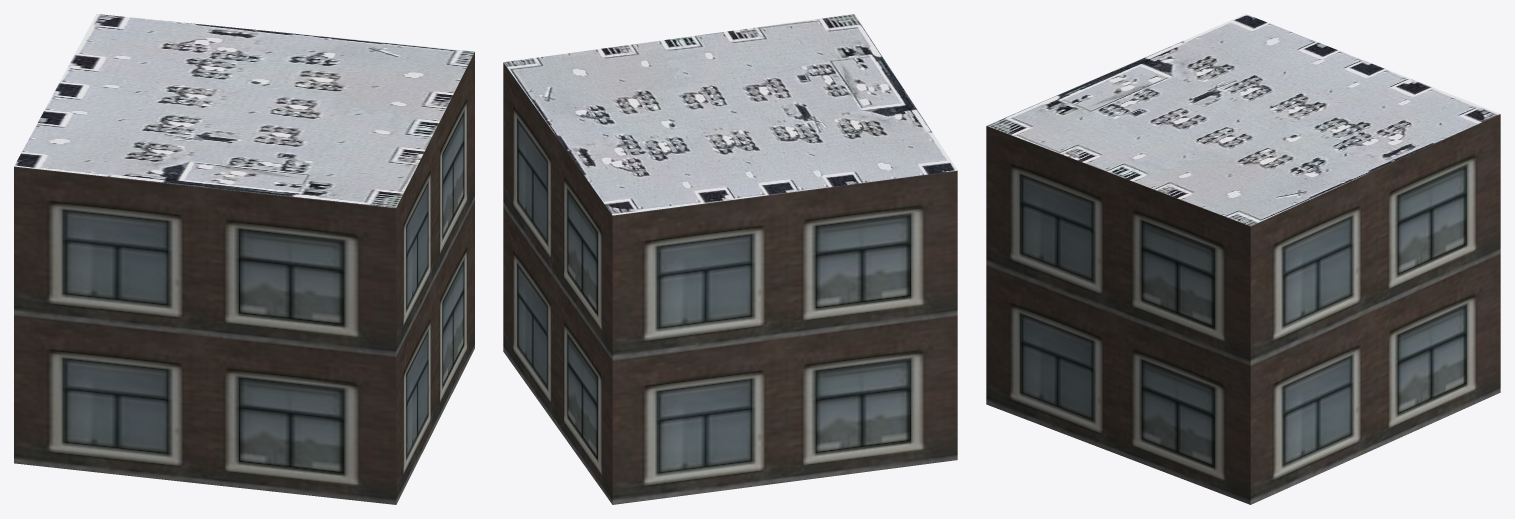
Rendered from ResTex__2880.fbx.
3 views of the same model, side by side, from view 1: azimuth 30°, elevation 25°; view 2: azimuth 150°, elevation 25°; view 3: azimuth 270°, elevation 25° (orthographic). The views are drawn at different scales.
Parts seen in each view (by area): view 1: CityEngineMaterial_16_m, CityEngineMaterial_15_m; view 2: CityEngineMaterial_16_m, CityEngineMaterial_15_m; view 3: CityEngineMaterial_16_m, CityEngineMaterial_15_m.
Part boxes in pixels (box(x1,y1,x2,y2)): CityEngineMaterial_16_m: box(14, 52, 474, 504); CityEngineMaterial_15_m: box(14, 14, 474, 207); CityEngineMaterial_16_m: box(503, 62, 957, 504); CityEngineMaterial_15_m: box(503, 14, 957, 215); CityEngineMaterial_16_m: box(986, 114, 1500, 504); CityEngineMaterial_15_m: box(986, 14, 1499, 226).
Size of the model in its own units: 9.8 by 6 by 10.03.
2 materials, 2 textured.
